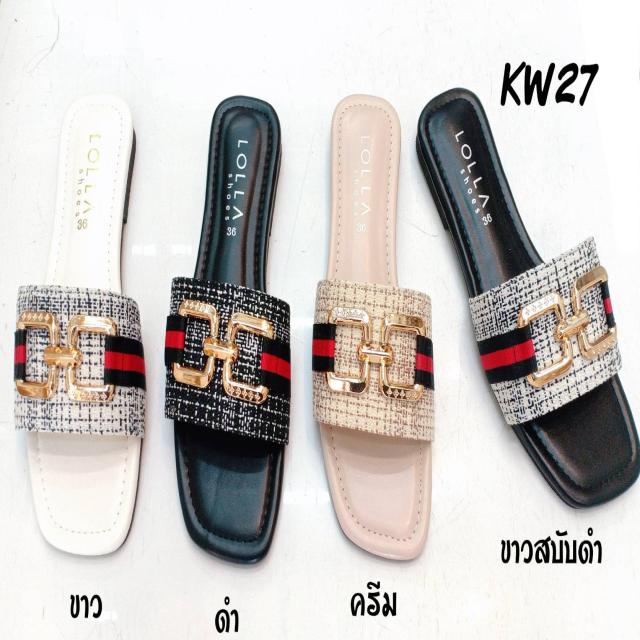black: (176, 86, 288, 558)
cream: (319, 93, 429, 557)
white: (23, 96, 143, 551)
white-black: (426, 80, 640, 519)
